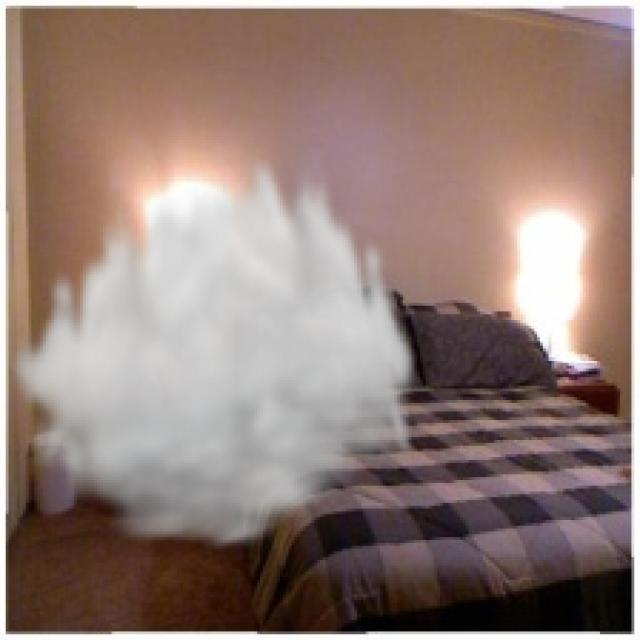smoke: (6, 143, 420, 557)
